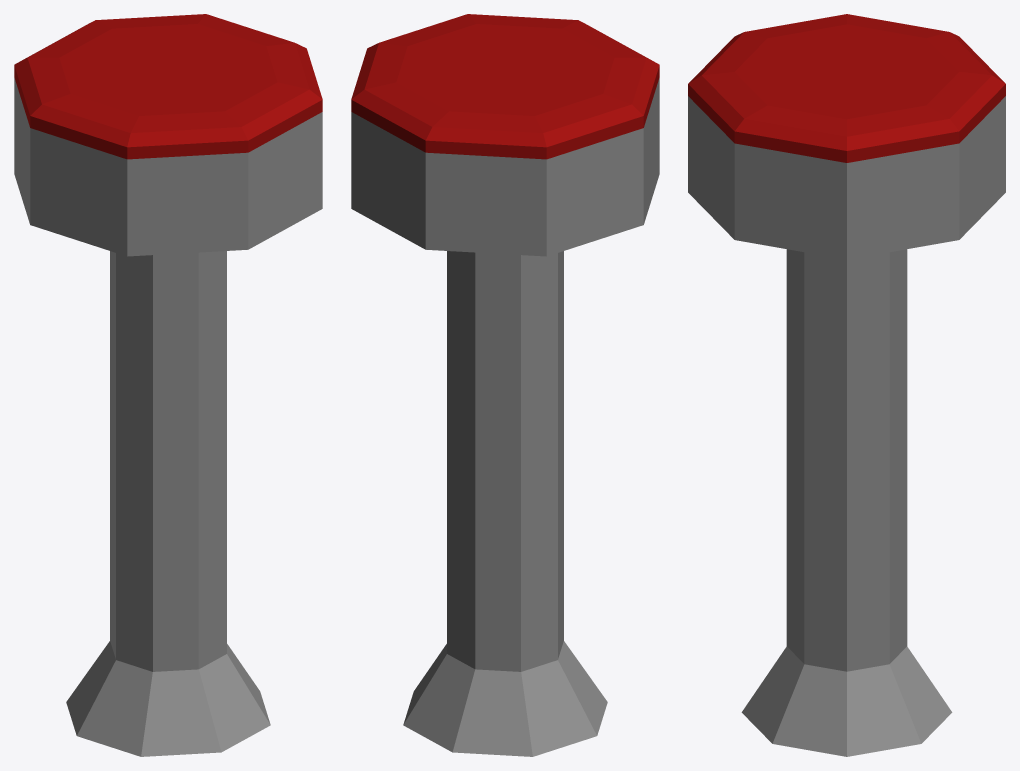
Rendered from bar_stool.glb.
3 views of the same model, side by side, from view 1: azimuth 30°, elevation 25°; view 2: azimuth 150°, elevation 25°; view 3: azimuth 270°, elevation 25° (orthographic).
Visible parts, largest first — view 1: Cylinder; view 2: Cylinder; view 3: Cylinder.
Part boxes in pixels (x1=…): Cylinder: x1=14, y1=14, x2=322, y2=756; Cylinder: x1=351, y1=14, x2=659, y2=756; Cylinder: x1=688, y1=14, x2=1005, y2=756.
Bounding box in the file's own units: 0.4047 × 0.9 × 0.4047.
